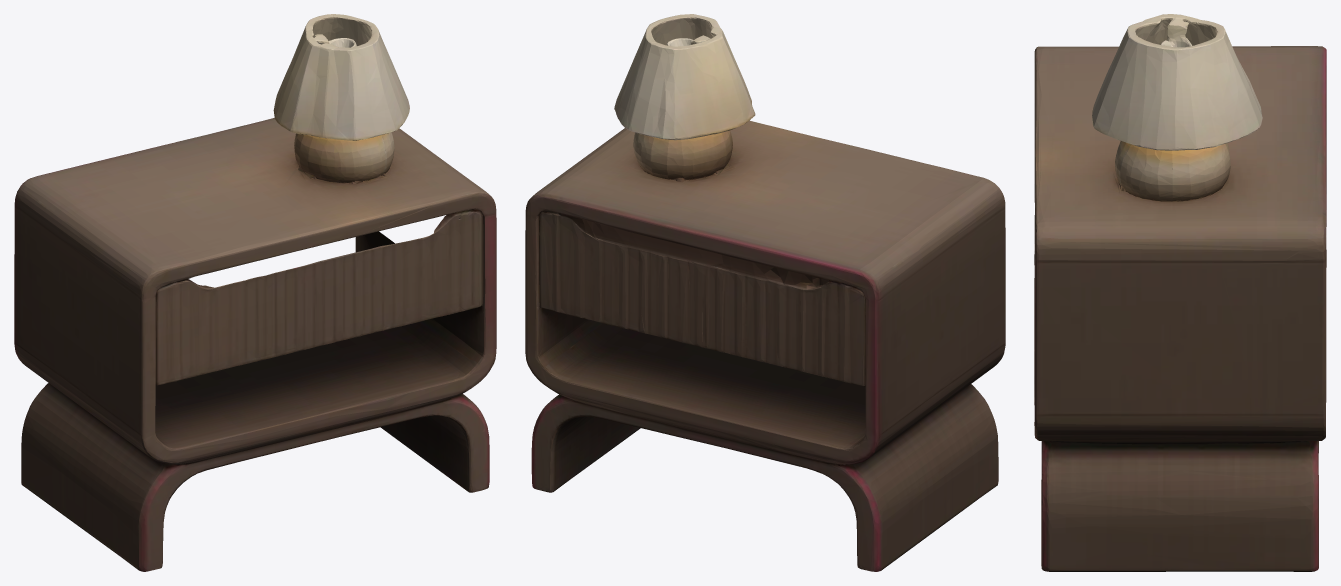
Rendered from nightstand_lamp_brown.glb.
3 views of the same model, side by side, from view 1: azimuth 30°, elevation 25°; view 2: azimuth 150°, elevation 25°; view 3: azimuth 270°, elevation 25° (orthographic). The views are drawn at different scales.
Parts seen in each view (by area): view 1: geometry_0; view 2: geometry_0; view 3: geometry_0.
Boxes of the visible parts, x1,y1,x2,y2 form: geometry_0: (14,14,496,571); geometry_0: (525,14,1005,571); geometry_0: (1034,14,1326,571).
Size of the model in its own units: 0.8554 by 0.9998 by 0.5396.
1 material, 1 textured.
